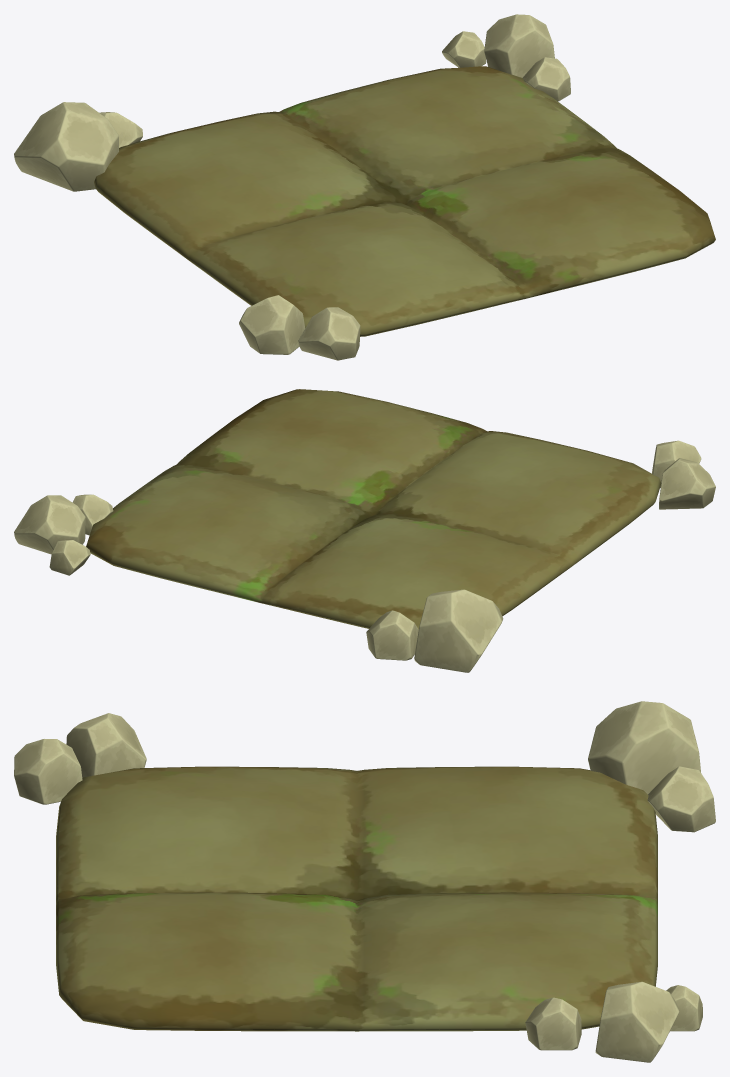
The model's file is gardenPlot1-optimized.glb.
3 views of the same model, one above another, from view 1: azimuth 30°, elevation 25°; view 2: azimuth 150°, elevation 25°; view 3: azimuth 270°, elevation 25° (orthographic). The views are drawn at different scales.
Visible parts, largest first — view 1: Plane.032, rock, rock.002, rock.005, rock.006, rock.001, rock.004, rock.003; view 2: Plane.032, rock, rock.002, rock.005, rock.003, rock.004, rock.006, rock.001; view 3: Plane.032, rock, rock.002, rock.005, rock.006, rock.003, rock.001, rock.004.
Boxes of the visible parts, x1,y1,x2,y2 form: Plane.032: (94,66,715,336); rock: (14,102,118,191); rock.002: (484,14,554,77); rock.005: (239,295,305,354); rock.006: (298,307,360,360); rock.001: (522,57,570,101); rock.004: (442,31,486,67); rock.003: (99,112,142,147); Plane.032: (86,389,661,629); rock: (414,589,503,672); rock.002: (14,495,85,554); rock.005: (659,458,715,509); rock.003: (366,610,418,660); rock.004: (49,540,90,575); rock.006: (652,440,701,487); rock.001: (72,494,113,535); Plane.032: (56,766,657,1031); rock: (588,701,700,794); rock.002: (595,981,679,1062); rock.005: (66,713,146,777); rock.006: (14,739,82,804); rock.003: (647,766,715,832); rock.001: (525,997,581,1050); rock.004: (666,985,702,1031).
Size of the model in its own units: 8.46 by 1.09 by 8.1.
Materials: 1 (1 with a texture image).
